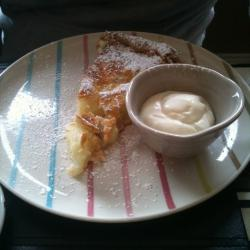apple_pie: (67, 29, 174, 176)
chantilly: (141, 83, 215, 153)
